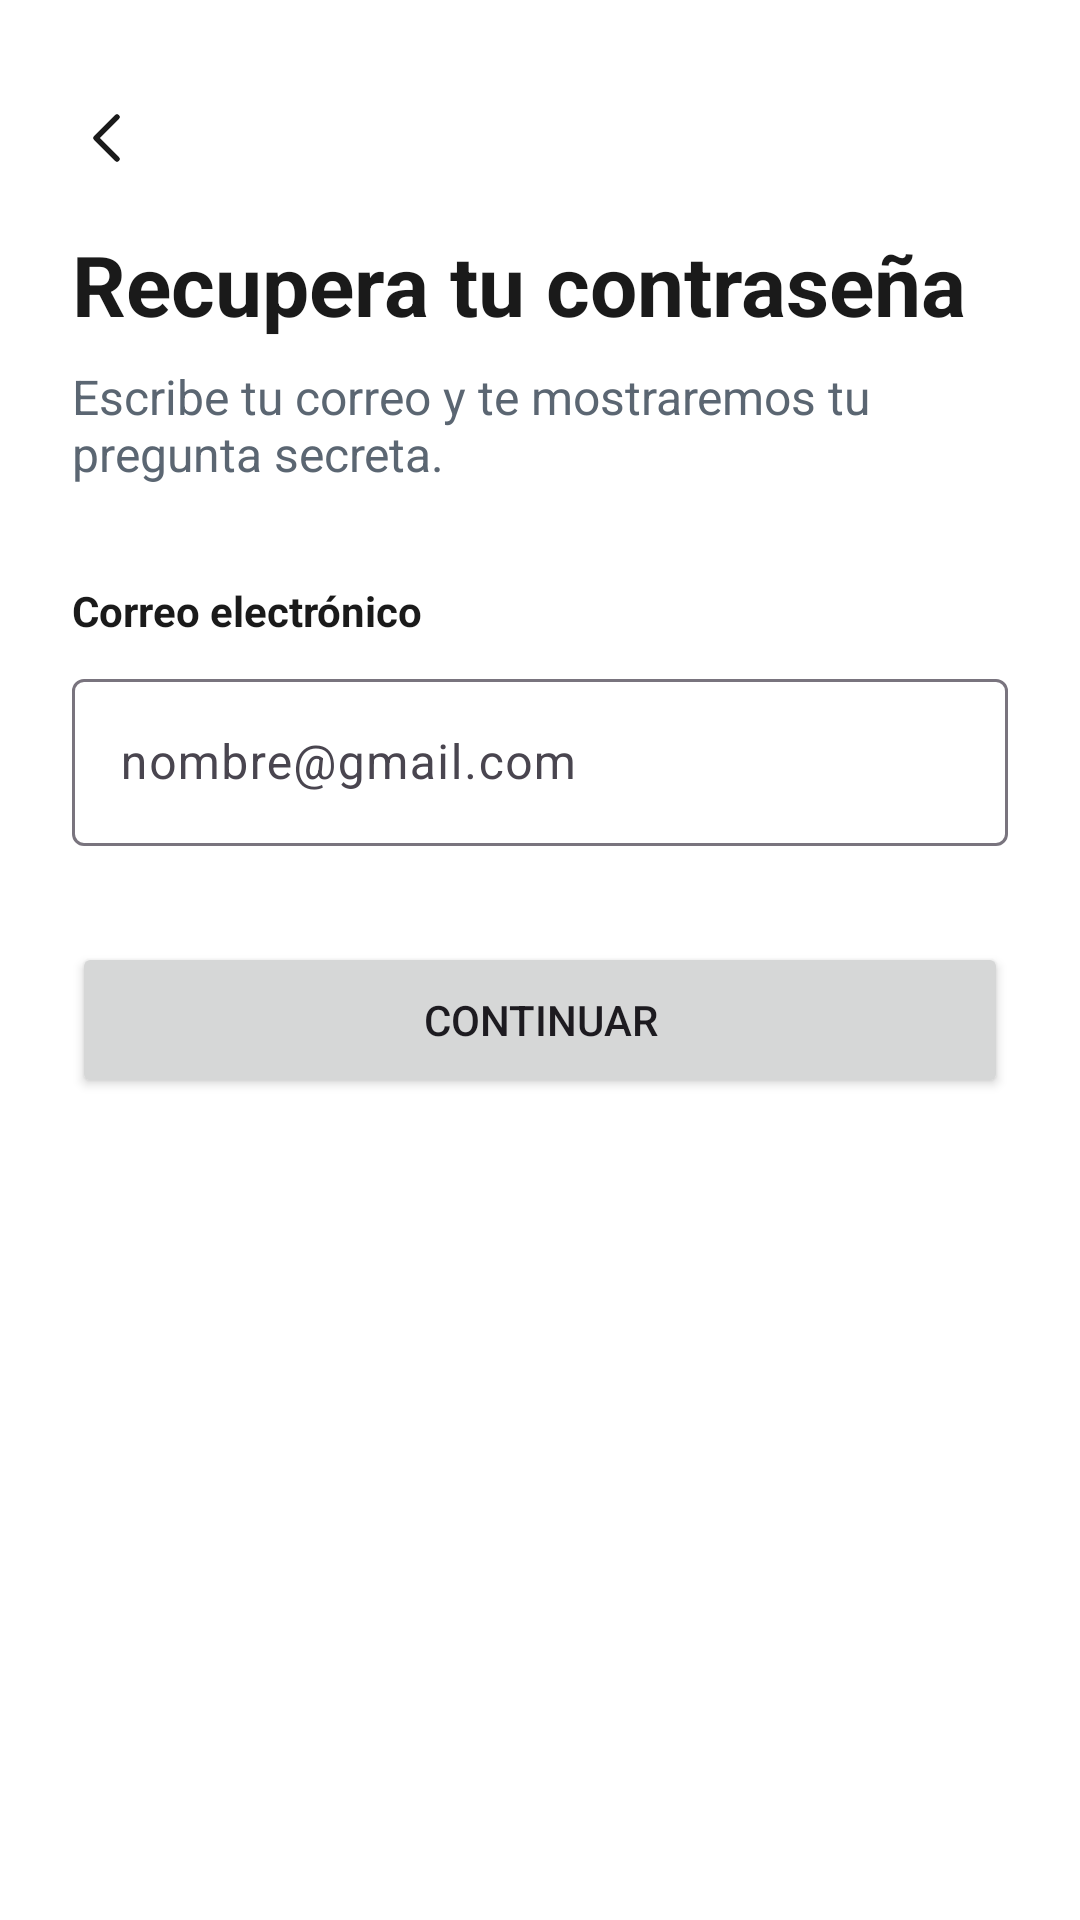

Locate icon controls on the screen. Image size 1080 × 1920, boxes as (x1, y1, x2, y2).
Volver: (93, 114, 120, 162)
